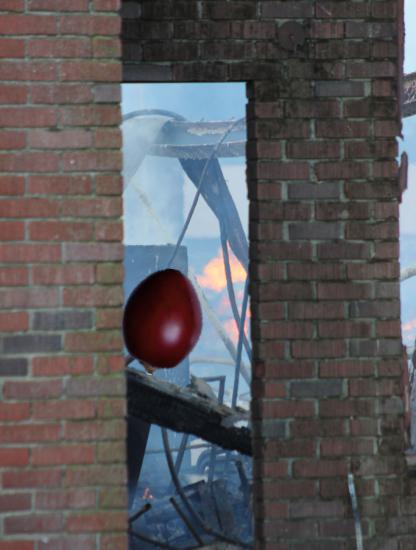Tamarillo: (108, 268, 217, 377)
